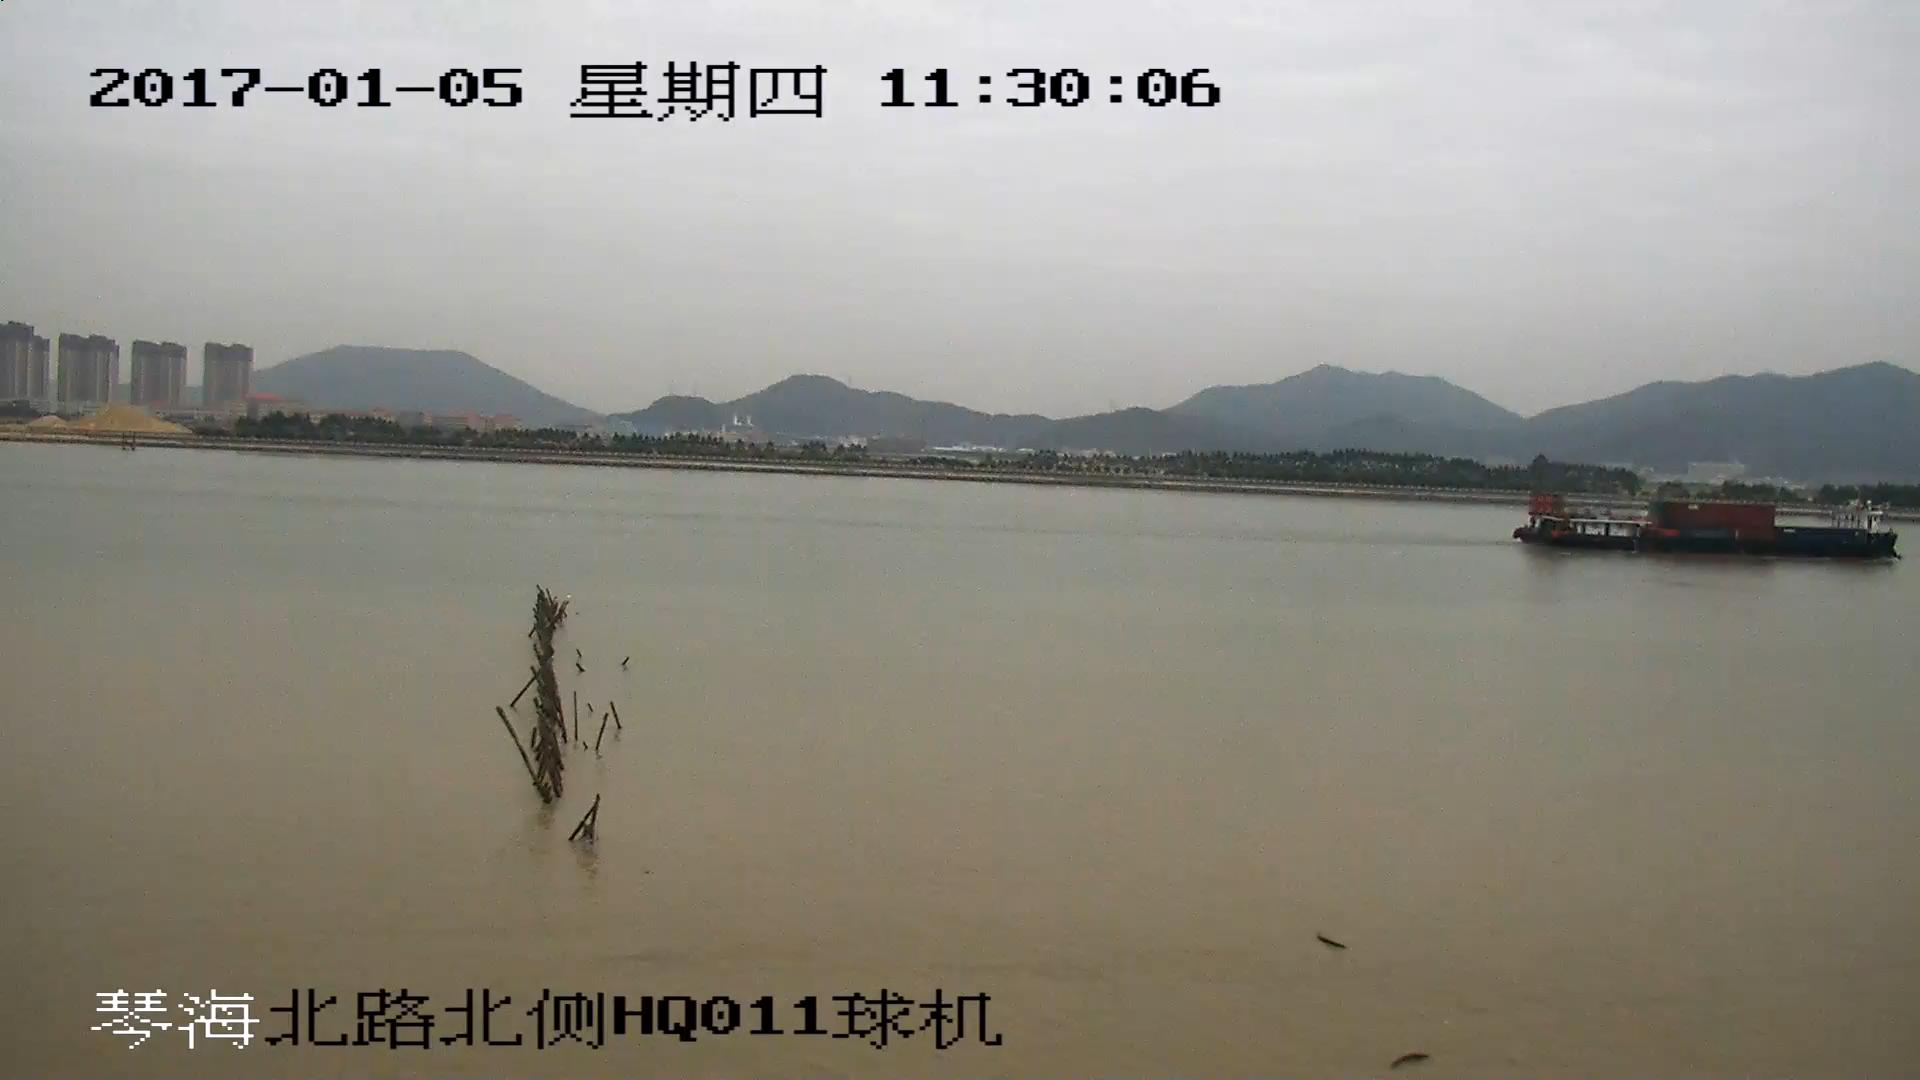container ship: (1511, 489, 1901, 565)
